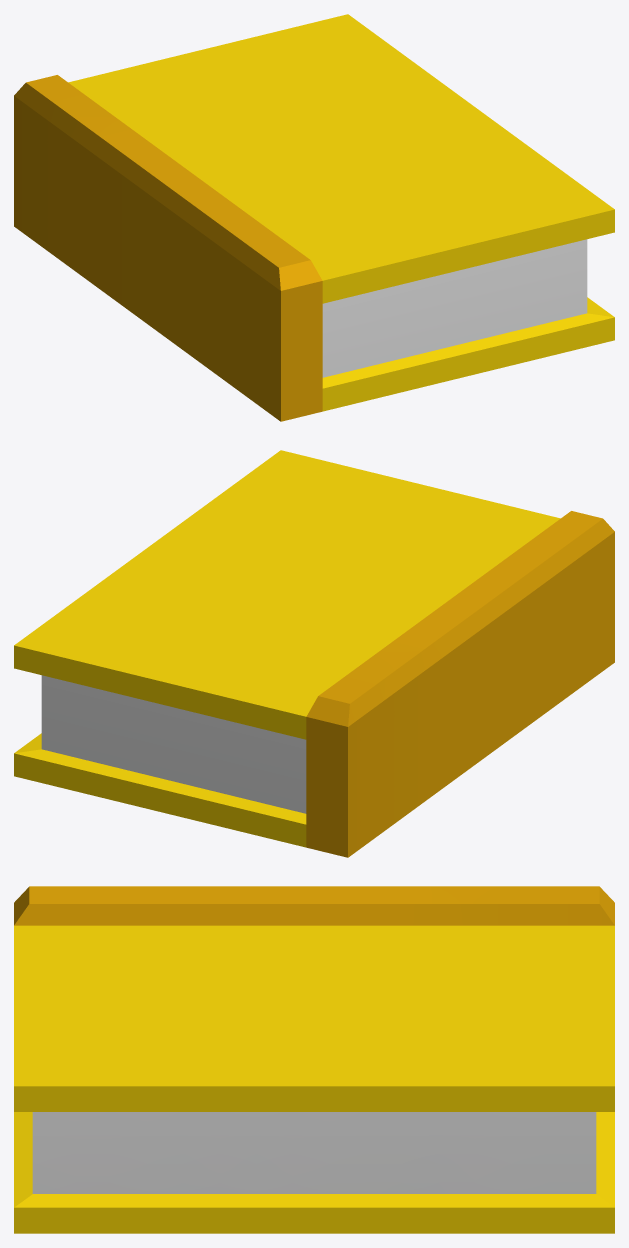
File: LivroAmarelo.fbx
3 renders of one model, top to bottom at view 1: azimuth 30°, elevation 25°; view 2: azimuth 150°, elevation 25°; view 3: azimuth 270°, elevation 25°, orthographic. The views are drawn at different scales.
Parts seen in each view (by area): view 1: LivroAmarelo; view 2: LivroAmarelo; view 3: LivroAmarelo.
Part boxes in pixels (<box>): LivroAmarelo: <box>14,14,614,421</box>; LivroAmarelo: <box>14,450,614,857</box>; LivroAmarelo: <box>14,886,614,1233</box>.
Bounding box in the file's own units: 49.87 × 21.07 × 69.
